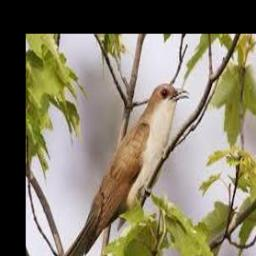Cuckoo: (34, 83, 190, 256)
